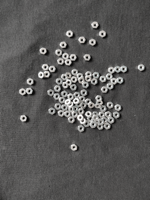nut: (138, 64, 146, 72), (56, 49, 63, 57), (27, 78, 34, 86), (78, 125, 85, 133), (92, 22, 99, 29), (100, 31, 107, 38), (67, 31, 74, 38), (60, 42, 67, 49), (40, 48, 47, 55), (70, 54, 77, 61), (84, 54, 91, 61), (65, 59, 72, 66), (58, 58, 65, 65), (49, 66, 56, 73), (42, 64, 49, 71), (44, 71, 51, 78), (38, 72, 45, 79), (26, 88, 33, 95), (121, 66, 128, 73), (115, 66, 122, 73), (100, 76, 107, 83), (93, 72, 100, 79), (117, 77, 124, 84), (111, 78, 118, 85), (91, 78, 98, 85), (85, 75, 92, 82), (72, 69, 79, 76), (78, 77, 85, 84), (82, 82, 89, 89), (71, 76, 78, 83), (61, 74, 68, 81), (56, 78, 63, 85), (66, 79, 73, 86), (70, 84, 77, 91), (48, 90, 55, 97), (81, 90, 88, 97), (74, 92, 81, 99), (59, 97, 66, 104), (107, 102, 114, 109), (115, 105, 122, 112), (65, 99, 72, 106), (49, 108, 56, 115), (58, 110, 65, 117), (77, 115, 84, 122), (80, 118, 87, 125), (86, 111, 93, 118), (108, 117, 115, 124), (98, 119, 105, 126), (104, 123, 111, 130), (71, 144, 78, 151), (54, 86, 62, 92), (96, 100, 104, 106), (100, 106, 108, 112), (90, 39, 96, 46), (79, 37, 86, 43), (63, 53, 69, 60), (20, 89, 26, 96), (20, 116, 27, 122), (109, 67, 115, 74), (106, 74, 113, 80), (86, 71, 93, 77), (108, 83, 114, 90), (102, 87, 109, 93), (77, 73, 84, 79), (66, 72, 72, 79), (63, 82, 69, 89), (68, 94, 74, 101), (62, 91, 68, 98), (54, 94, 61, 100), (80, 96, 86, 103), (89, 102, 95, 109), (73, 99, 80, 105), (80, 103, 87, 109), (55, 104, 62, 110), (73, 106, 79, 113), (69, 106, 75, 113), (65, 111, 71, 118), (78, 109, 85, 115), (69, 117, 75, 124), (99, 112, 106, 118), (105, 112, 112, 118), (114, 112, 120, 119), (93, 115, 100, 121), (84, 121, 90, 128), (91, 122, 98, 128), (86, 99, 92, 105), (68, 102, 74, 108), (76, 102, 82, 108), (62, 105, 68, 111), (72, 112, 78, 118), (93, 112, 99, 118), (88, 116, 94, 122), (95, 118, 101, 124), (102, 118, 108, 124), (98, 124, 104, 130), (96, 96, 103, 101), (95, 104, 102, 109)
